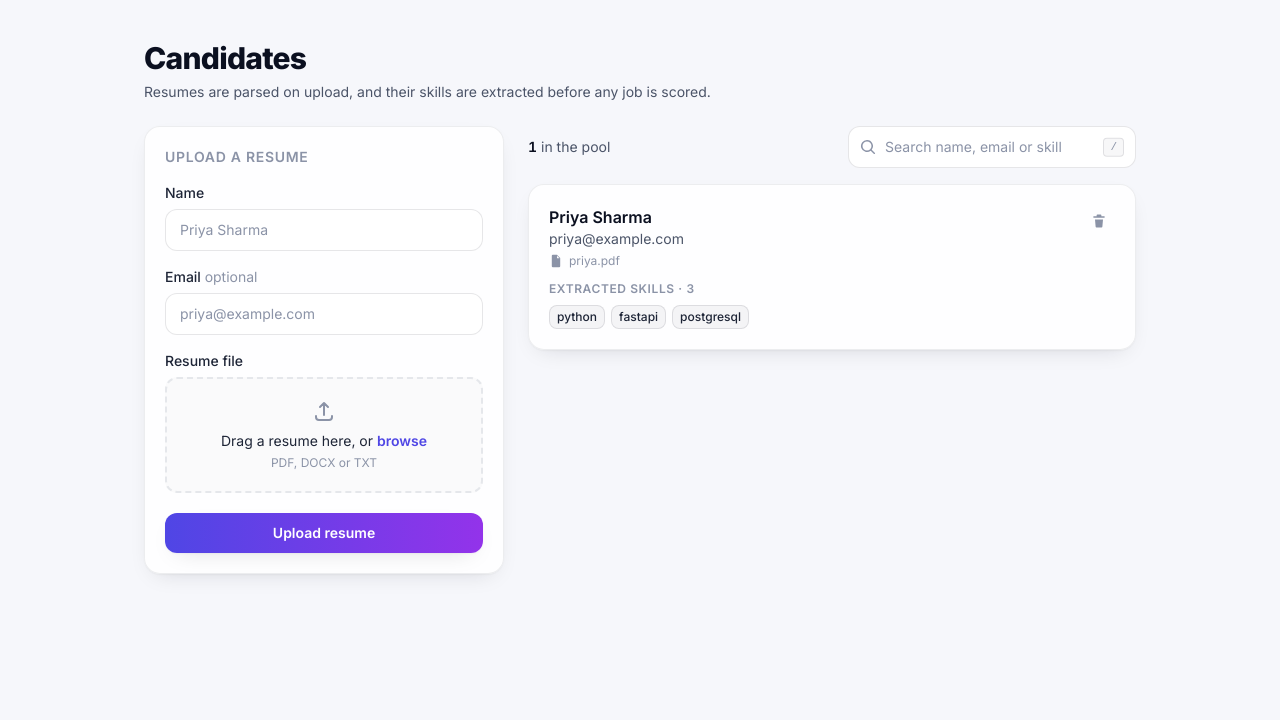
Scenario: CandidatesPage › deleting › surfaces a failed delete rather than looking like it worked
The width and height of the screenshot is (1280, 720).
Expected: the text "Priya Sharma" is shown, [549,207,652,227]
Click the button named "Delete Priya Sharma" at (1099,221), box [1083,205,1115,237]
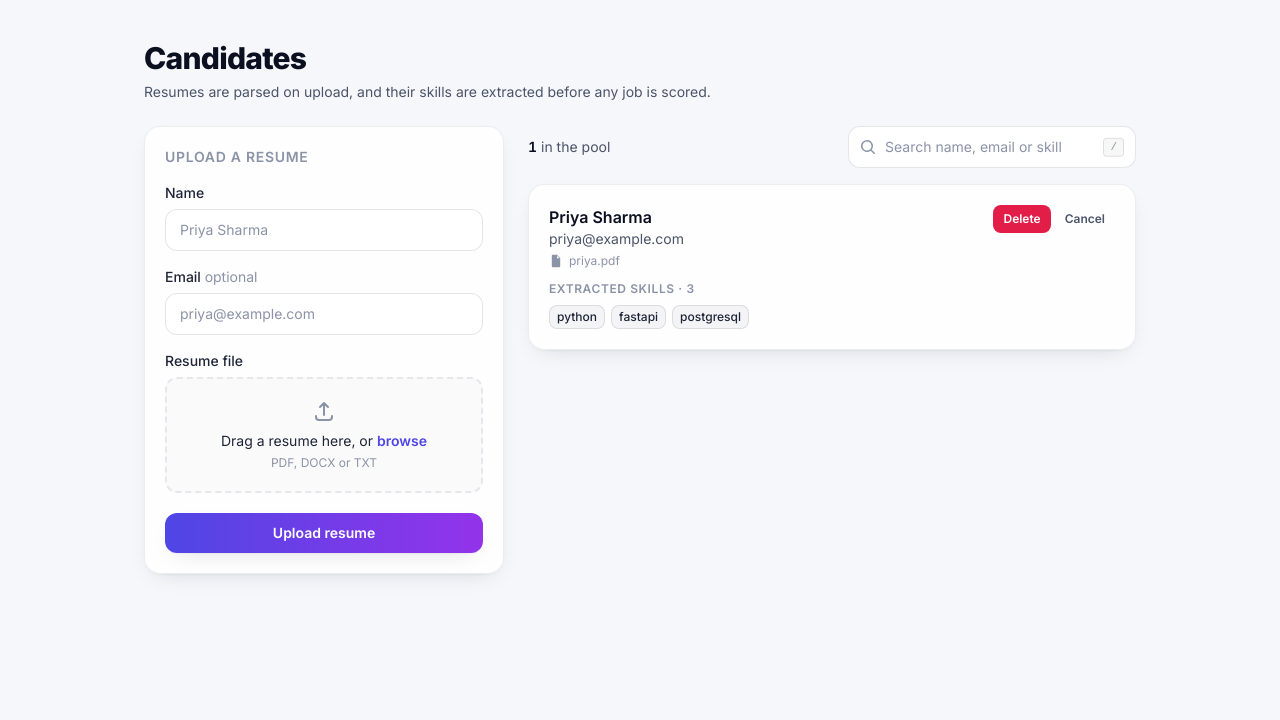
Click the button "Delete" at (1022,219), box [994,205,1051,233]
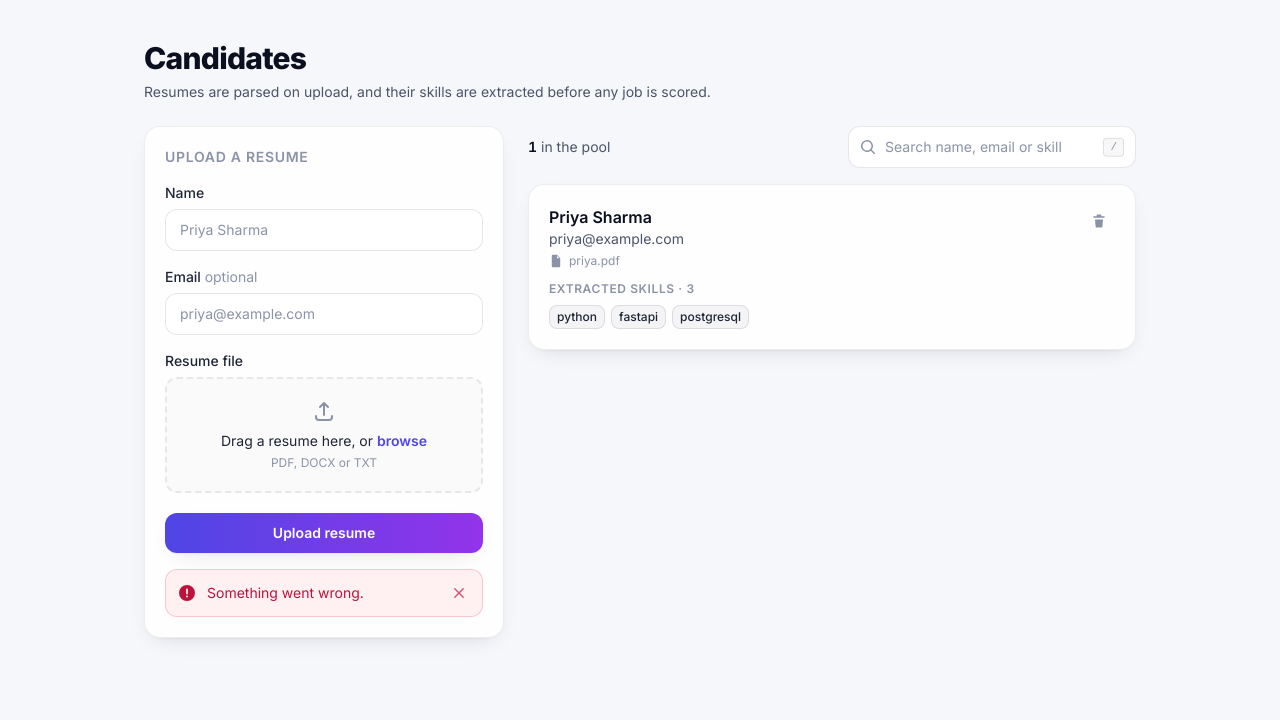
Expected: the message reads "Something went wrong.", [207,584,364,601]
